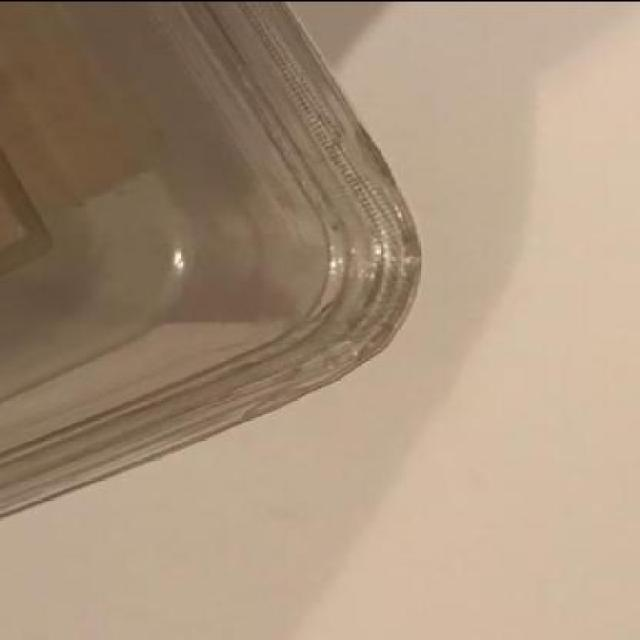PLASTIC: (2, 1, 423, 522)
